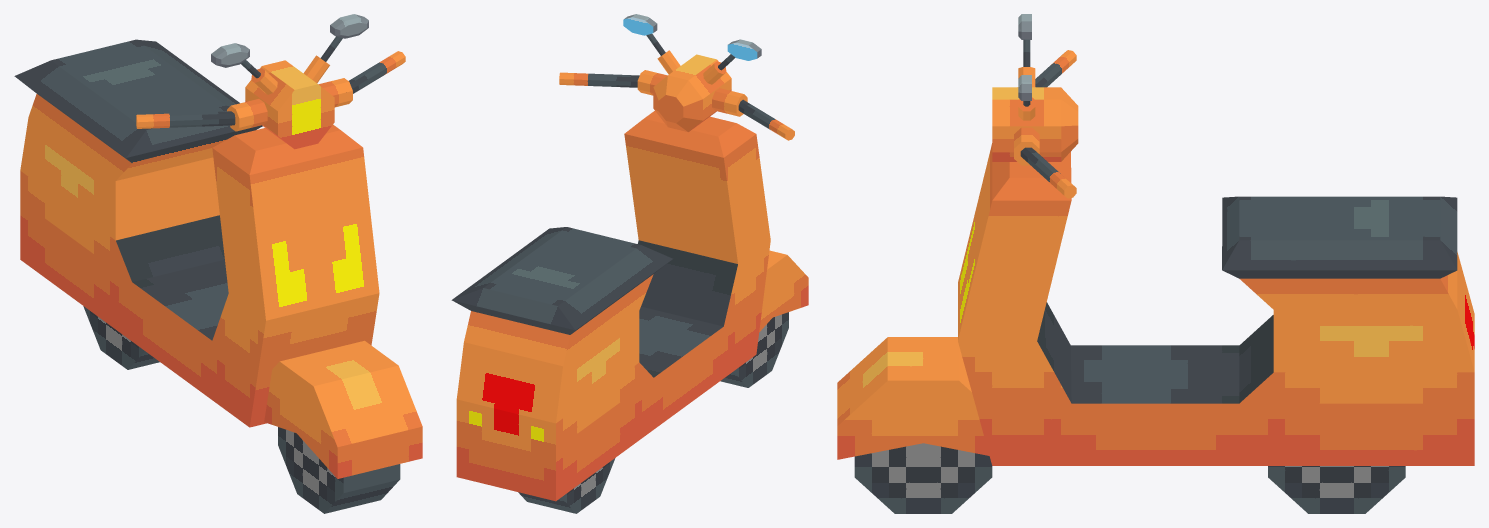
File: scooter.glb
3 renders of one model, left to right at view 1: azimuth 30°, elevation 25°; view 2: azimuth 150°, elevation 25°; view 3: azimuth 270°, elevation 25°, orthographic. The views are drawn at different scales.
Visible parts, largest first — view 1: mesh_vespa_0, cylinder_2, cylinder_3, cylinder, cylinder_1, cylinder_7, cylinder_5, cylinder_6, cylinder_12, cylinder_13, cylinder_4; view 2: mesh_vespa_0, cylinder_3, cylinder_2, cylinder, cylinder_1, cylinder_6, cylinder_7, cylinder_5, cylinder_12, cylinder_13, cylinder_4; view 3: mesh_vespa_0, cylinder_2, cylinder, cylinder_1, cylinder_3, cylinder_6.
Part boxes in pixels (x1,y1,x2,y2): mesh_vespa_0: (14,39,379,427); cylinder_2: (264,340,422,478); cylinder_3: (245,60,334,149); cylinder: (278,427,400,513); cylinder_1: (83,306,159,369); cylinder_7: (136,111,235,128); cylinder_5: (227,99,267,131); cylinder_6: (349,51,405,93); cylinder_12: (330,14,368,38); cylinder_13: (211,43,249,67); cylinder_4: (318,78,352,107); mesh_vespa_0: (451,111,770,501); cylinder_3: (653,54,731,132); cylinder_2: (759,250,808,331); cylinder: (720,312,788,387); cylinder_1: (518,458,615,513); cylinder_6: (559,72,639,87); cylinder_7: (738,99,794,140); cylinder_5: (712,88,747,116); cylinder_12: (623,14,657,35); cylinder_13: (727,39,761,60); cylinder_4: (637,70,667,95); mesh_vespa_0: (958,143,1474,465); cylinder_2: (837,337,989,459); cylinder: (854,443,992,513); cylinder_1: (1268,466,1405,513); cylinder_3: (992,87,1078,161); cylinder_6: (1020,147,1076,198).
Size of the model in its own units: 1.18 by 1.81 by 2.31.
Materials: 1 (1 with a texture image).
